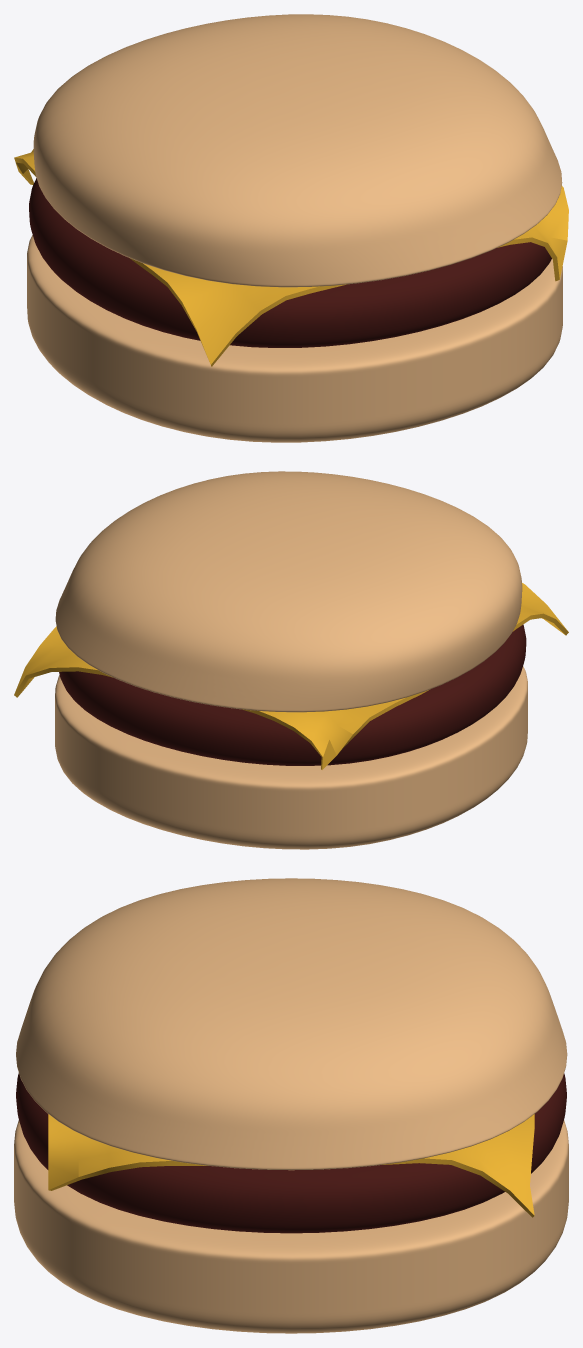
The model's file is hamburger.glb.
3 renders of one model, top to bottom at view 1: azimuth 30°, elevation 25°; view 2: azimuth 150°, elevation 25°; view 3: azimuth 270°, elevation 25°, orthographic. The views are drawn at different scales.
Parts seen in each view (by area): view 1: Cube.002, Cube, Cube.001, Plane; view 2: Cube.002, Cube, Cube.001, Plane; view 3: Cube.002, Cube, Cube.001, Plane.
Boxes of the visible parts, bbox=[...] form: Cube.002: bbox=[33, 14, 562, 287]; Cube: bbox=[27, 235, 562, 442]; Cube.001: bbox=[29, 178, 551, 347]; Plane: bbox=[14, 149, 568, 366]; Cube.002: bbox=[55, 471, 522, 712]; Cube: bbox=[55, 666, 527, 849]; Cube.001: bbox=[59, 624, 526, 765]; Plane: bbox=[14, 583, 568, 769]; Cube.002: bbox=[16, 878, 567, 1170]; Cube: bbox=[14, 1120, 568, 1333]; Cube.001: bbox=[16, 1073, 566, 1233]; Plane: bbox=[48, 1114, 534, 1217].
Bounding box in the file's own units: 9.17 × 5.38 × 9.17.
